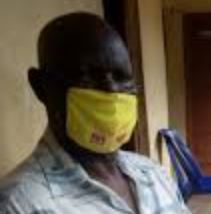with_facemask: (67, 85, 161, 154)
